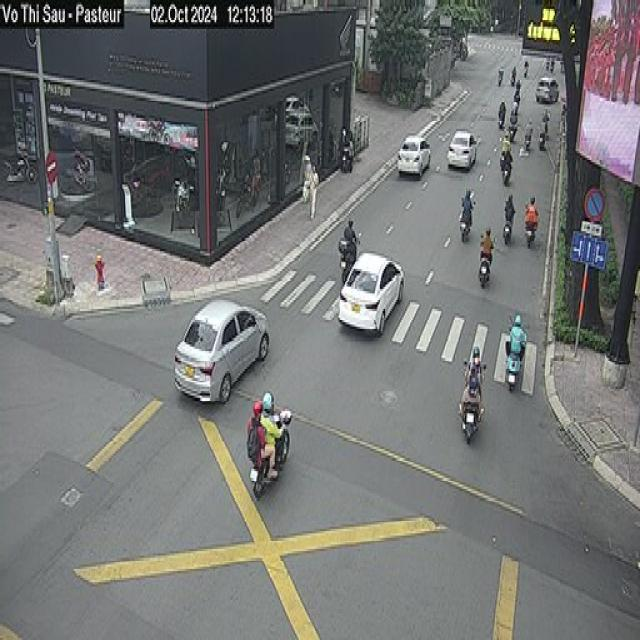car: (172, 296, 268, 402), (338, 251, 403, 336), (396, 133, 430, 178), (446, 129, 479, 169), (535, 76, 559, 102)
motorcycle: (249, 409, 291, 498), (463, 372, 489, 432), (339, 231, 361, 285), (458, 202, 474, 240), (498, 151, 512, 185), (501, 209, 514, 244), (524, 216, 536, 247)
person: (258, 384, 285, 453), (239, 392, 265, 461), (459, 367, 481, 420), (465, 344, 484, 396), (307, 158, 321, 220), (342, 216, 360, 263), (509, 313, 526, 358), (478, 227, 494, 273), (460, 187, 474, 229), (346, 124, 357, 170), (304, 154, 312, 211), (527, 188, 539, 226), (504, 194, 515, 234), (504, 130, 515, 169), (502, 96, 508, 124)
